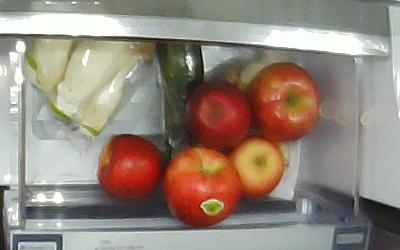apple: (160, 143, 242, 226), (242, 61, 320, 142), (182, 78, 252, 149), (95, 132, 164, 199), (225, 136, 284, 200)
